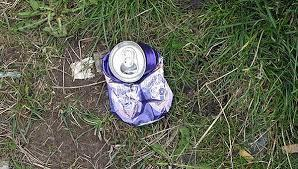metal: (101, 39, 175, 126)
